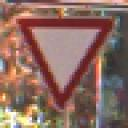preferencia: (13, 13, 116, 112)
